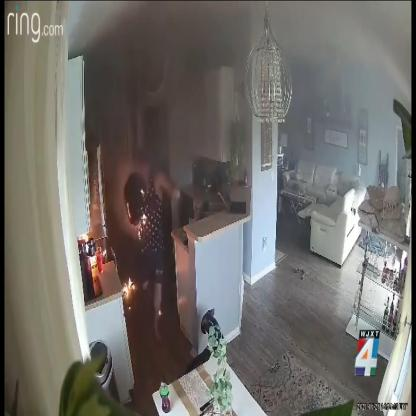fire: (123, 277, 135, 296)
